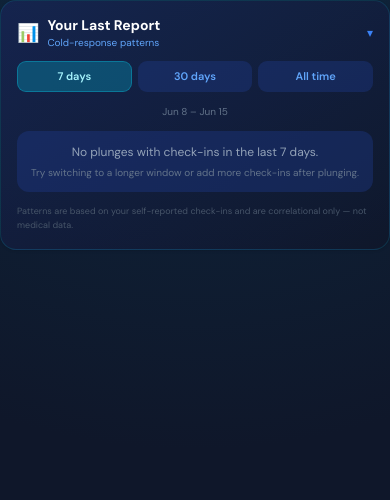
DiscoveryReportCard — All-time tab with plunges spanning multiple years › switching from All-time back to 7-day tab returns to blank state
# Switch to All time → sweet spot visible
Step 1. Click the button "All time" → (316, 76), box [258,61,373,92]
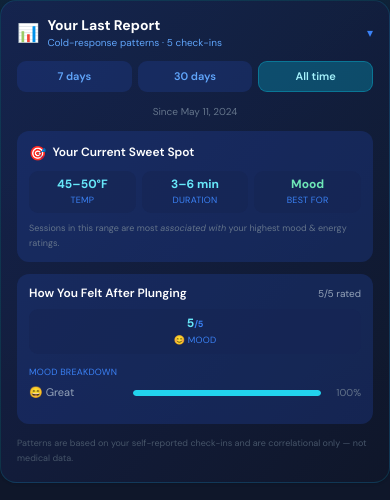
Result: the text "Your Current Sweet Spot" is shown at [52,145,194,160]
# Switch back to 7 days → blank again
Step 2. Click the button "7 days" → (74, 76), box [17,61,132,92]
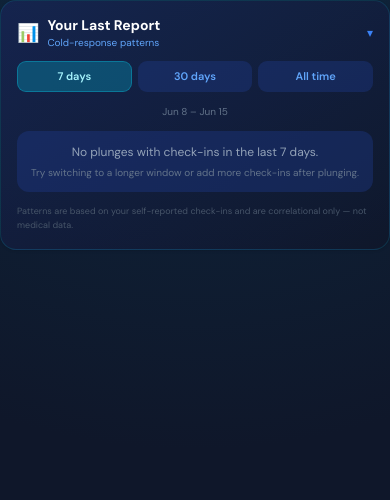
Result: the text "No plunges with check-ins in the last 7 days." is shown at [72,144,318,160]
Result: the text "Your Current Sweet Spot" is gone
